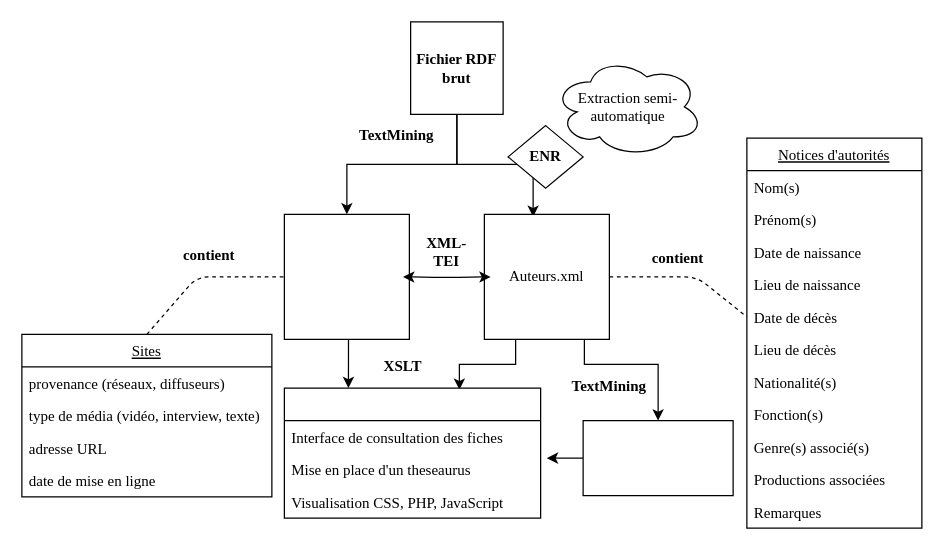
The diagram is 944 pixels wide and 554 high, and some of its shapes have lost their labels. Here are the shapes that lost their labels. From the top down, the box of each, then its label:
(283, 213, 409, 339): Sites.xml
(283, 387, 541, 518): Technologies web
(582, 419, 733, 496): Analyse textuelle des productions littéraires
